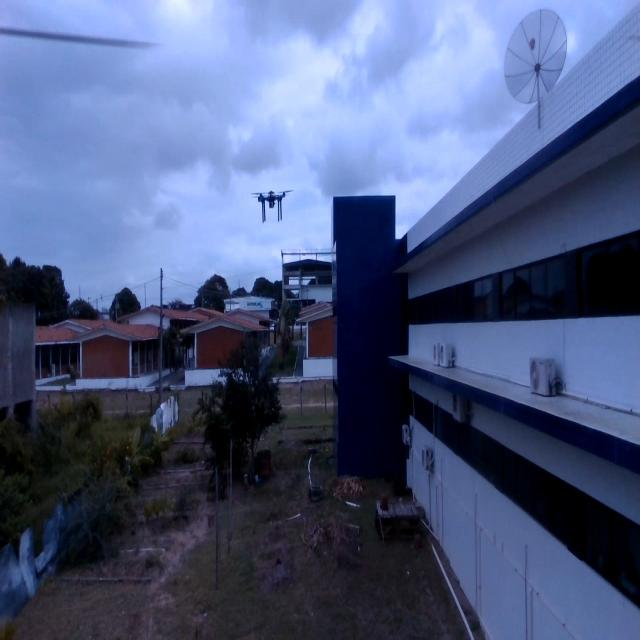-uav-: (245, 175, 299, 228)
